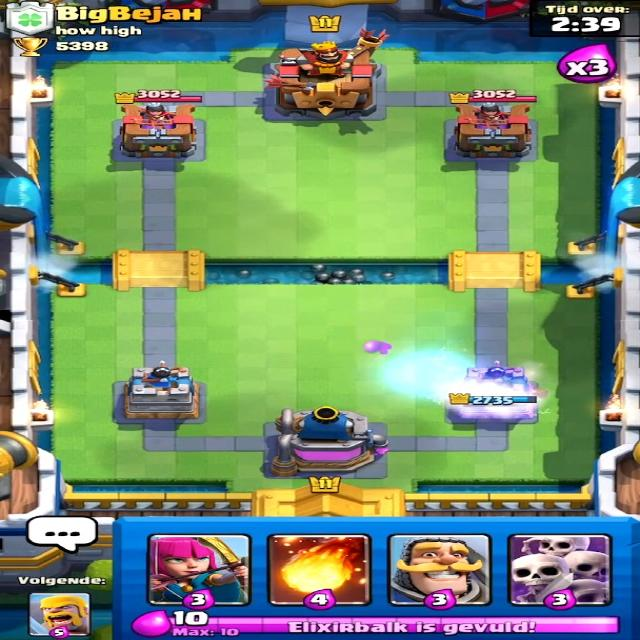Fireball_Card: (260, 530, 370, 608)
